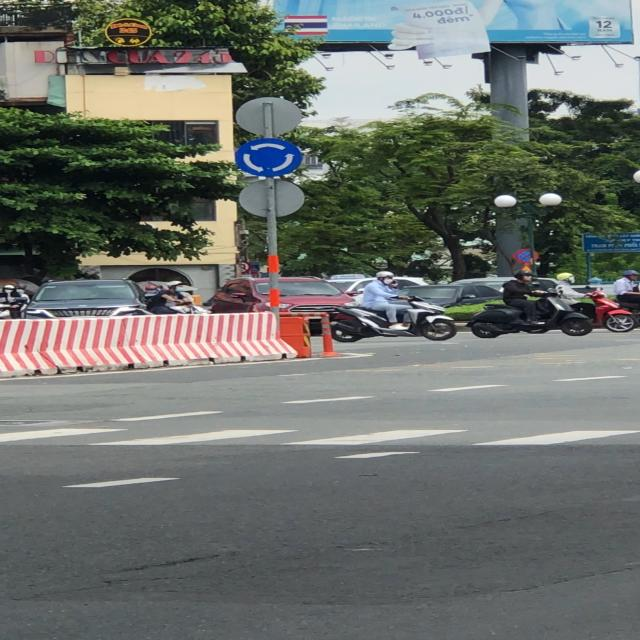Bien bao noi giao nhau chay theo vong xuyen: (230, 136, 322, 180)
